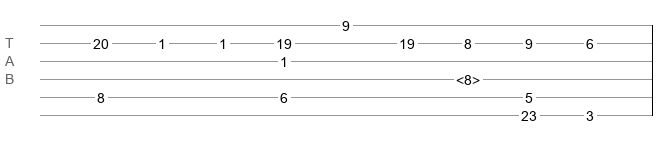1: (158, 36, 166, 46), (219, 36, 227, 46), (280, 54, 288, 64)
19: (276, 36, 292, 46), (399, 36, 415, 46)
20: (93, 36, 109, 46)
23: (521, 108, 537, 118)
3: (586, 108, 594, 118)
5: (525, 90, 533, 100)
6: (280, 90, 288, 100), (586, 36, 594, 46)
8: (97, 90, 105, 100), (464, 36, 472, 46)
9: (342, 18, 350, 28), (525, 36, 533, 46)
harmonic: (456, 72, 480, 82)
